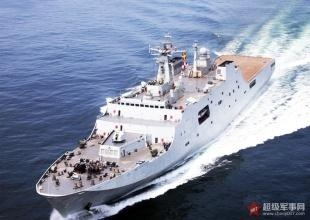warship: (33, 30, 275, 213)
